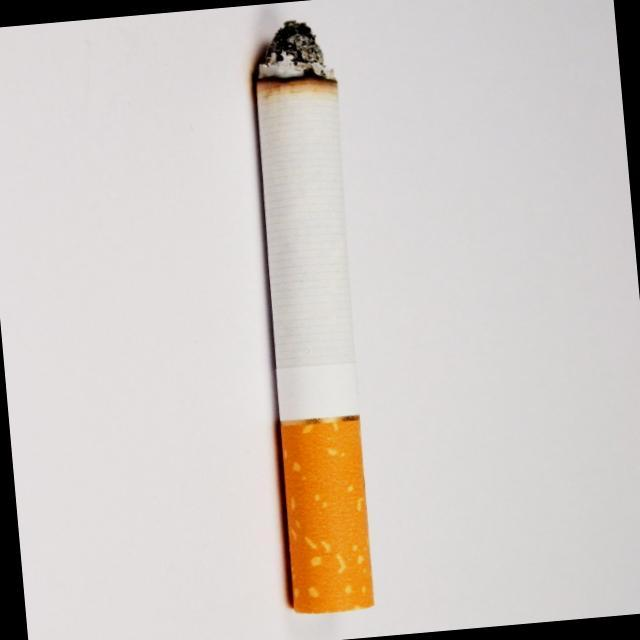cigarette: (232, 11, 398, 623)
